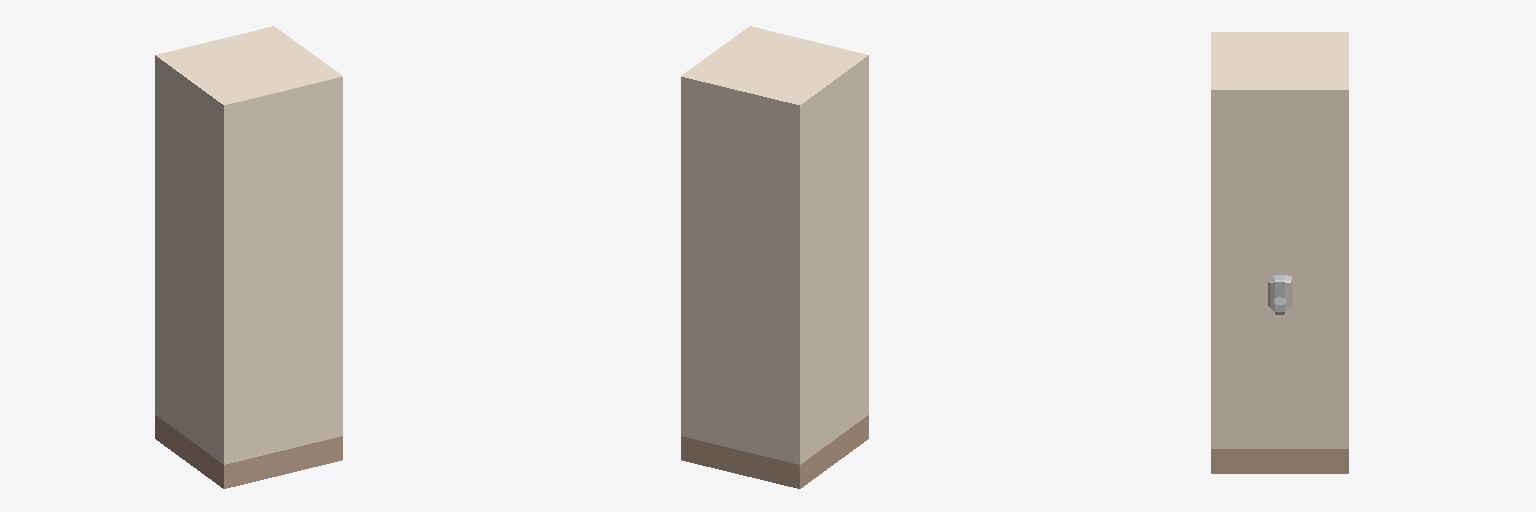
3 renders of one model, left to right at view 1: azimuth 30°, elevation 25°; view 2: azimuth 150°, elevation 25°; view 3: azimuth 270°, elevation 25°, orthographic.
Visible parts, largest first — view 1: Cube.033_Cube.006; view 2: Cube.033_Cube.006; view 3: Cube.033_Cube.006, Cube_Cube.001.
Boxes of the visible parts, x1=… form: Cube.033_Cube.006: x1=155, y1=26, x2=342, y2=488; Cube.033_Cube.006: x1=681, y1=26, x2=868, y2=488; Cube.033_Cube.006: x1=1211, y1=32, x2=1348, y2=473; Cube_Cube.001: x1=1268, y1=275, x2=1291, y2=314.
Size of the model in its own units: 4.46 by 12.29 by 4.
2 materials, 2 textured.